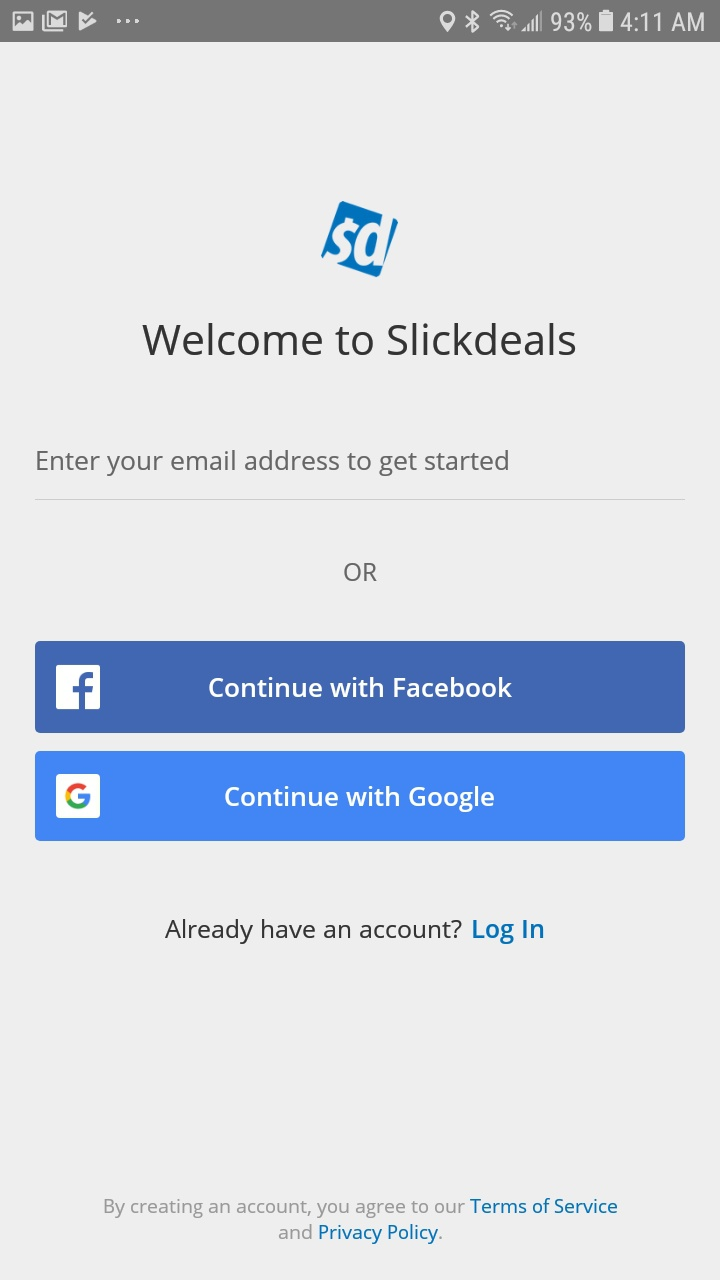EditText: (35, 450, 686, 501)
Image: (320, 200, 399, 278)
Text: (104, 1197, 618, 1245), (142, 323, 576, 357), (37, 450, 509, 477), (165, 918, 463, 945), (473, 919, 545, 945), (343, 561, 377, 583)
TextButton: (36, 641, 686, 734), (36, 751, 686, 842)
UpperTaskBar: (1, 1, 720, 43)
